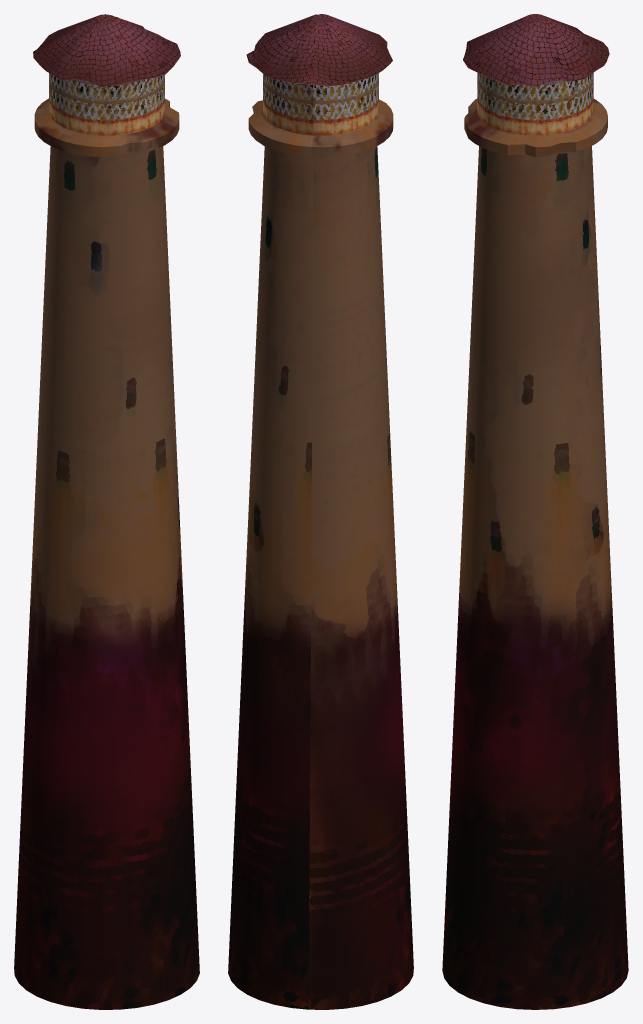
Rendered from lighthouse.fbx.
3 renders of one model, left to right at view 1: azimuth 30°, elevation 25°; view 2: azimuth 150°, elevation 25°; view 3: azimuth 270°, elevation 25°, orthographic.
Parts seen in each view (by area): view 1: Lighthouse; view 2: Lighthouse; view 3: Lighthouse.
Boxes of the visible parts, x1,y1,x2,y2 form: Lighthouse: (14,14,199,1009); Lighthouse: (228,14,413,1009); Lighthouse: (442,14,628,1009).
Size of the model in its own units: 200 by 1128 by 200.
